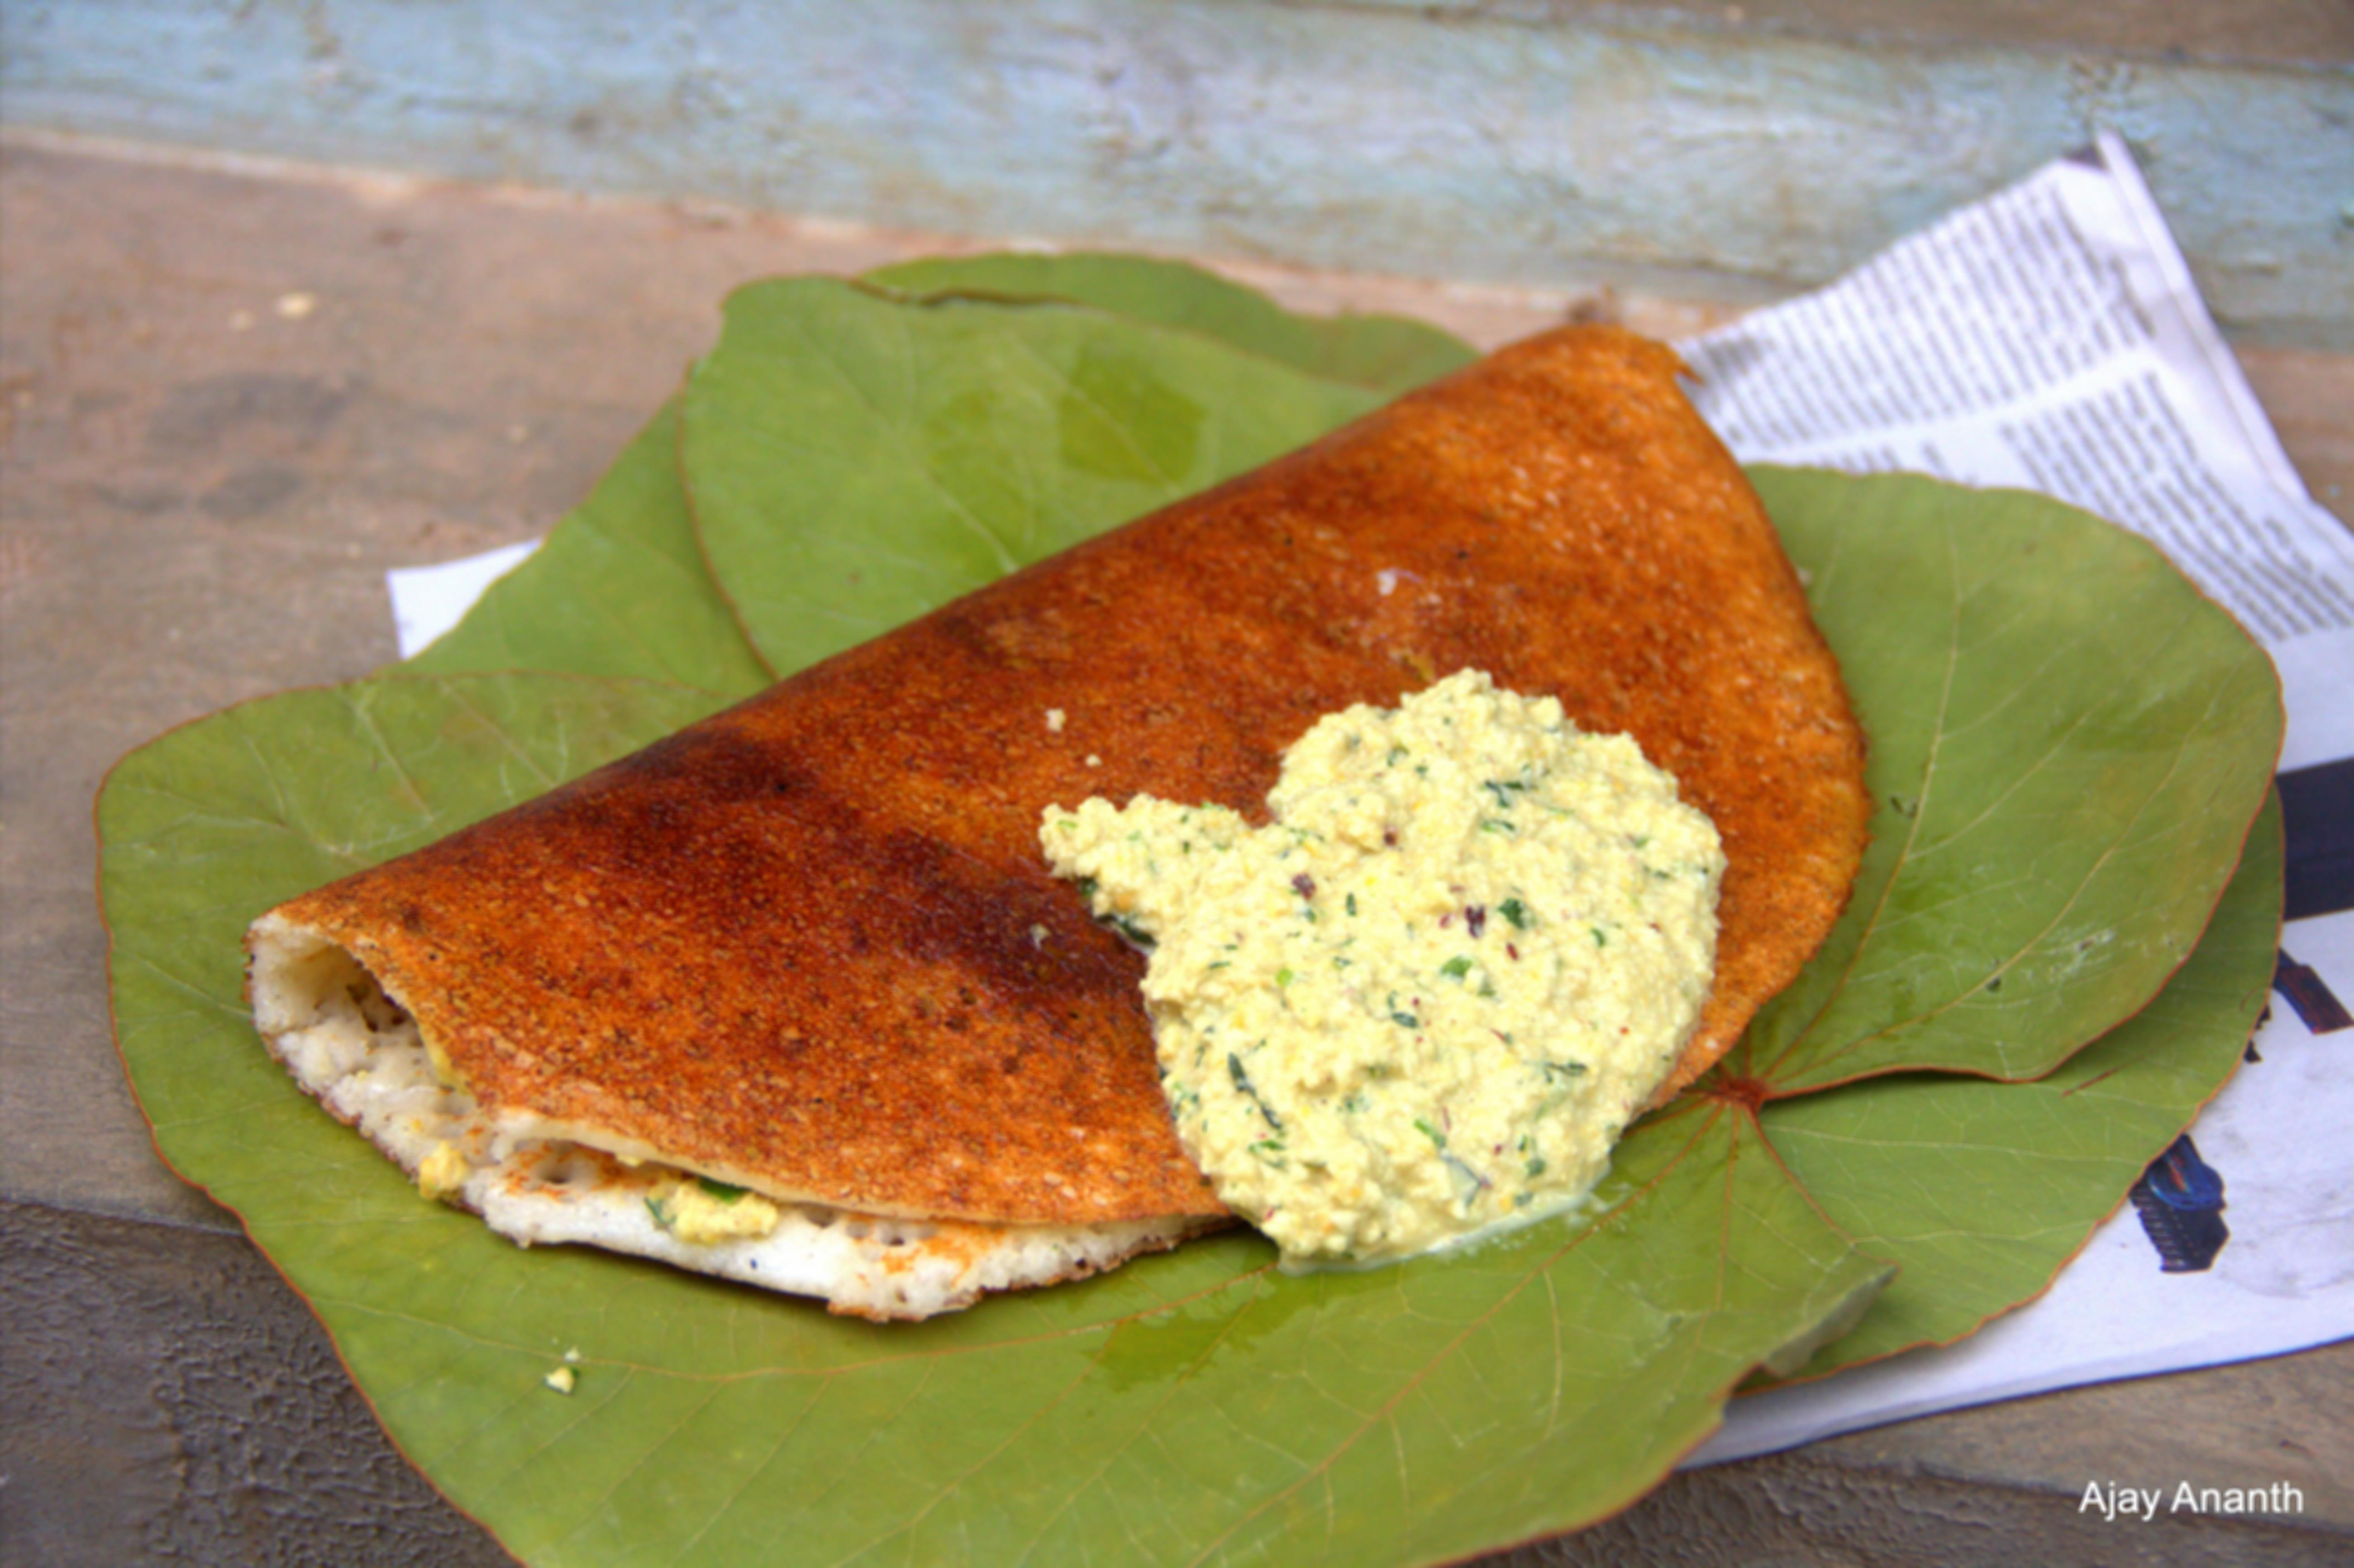dosa: (249, 296, 1878, 1354)
